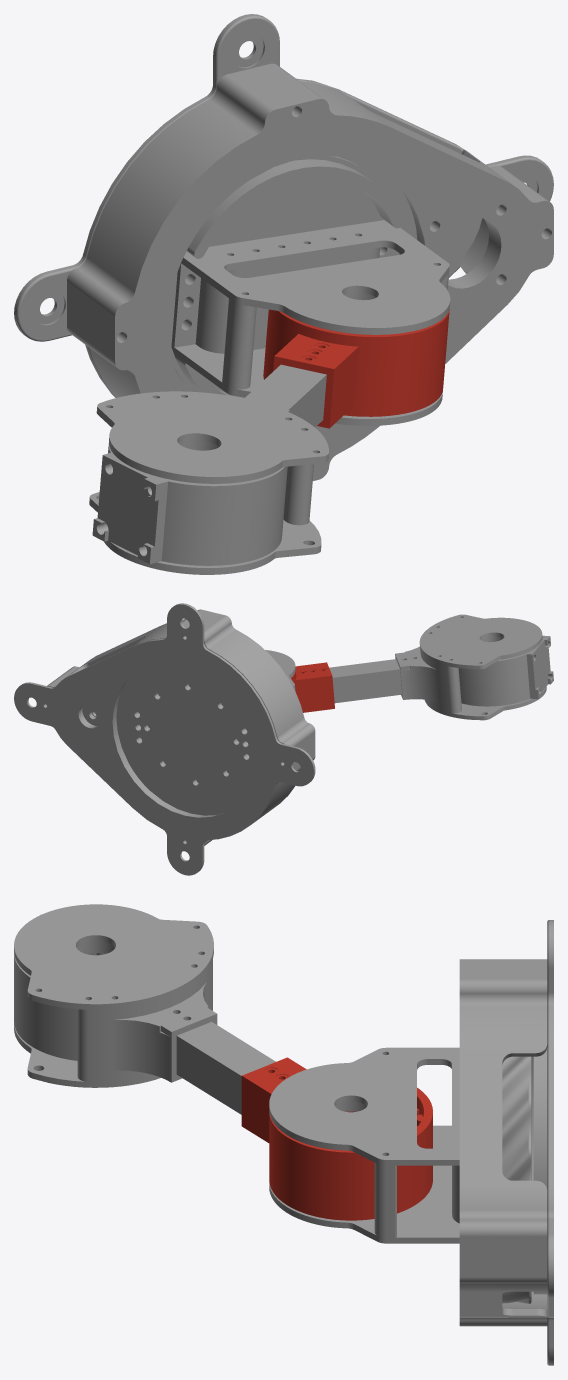
The model's file is arm.fbx.
3 views of the same model, one above another, from view 1: azimuth 30°, elevation 25°; view 2: azimuth 150°, elevation 25°; view 3: azimuth 270°, elevation 25° (orthographic). The views are drawn at different scales.
Visible parts, largest first — view 1: Body2 (×6), Body1 (×2), Body38 (×2); view 2: Body2 (×5), Body1 (×2), Body38 (×2); view 3: Body2 (×6), Body1 (×2), Body38 (×2).
Boxes of the visible parts, <box> form: Body2 (×6): <box>14,14,553,574</box>; Body1 (×2): <box>67,63,553,480</box>; Body38 (×2): <box>92,309,449,565</box>; Body2 (×5): <box>14,603,546,875</box>; Body1 (×2): <box>45,609,401,845</box>; Body38 (×2): <box>290,635,553,712</box>; Body2 (×6): <box>14,904,553,1365</box>; Body1 (×2): <box>176,959,547,1326</box>; Body38 (×2): <box>14,914,432,1220</box>.
Size of the model in its own units: 327 by 216 by 241.
